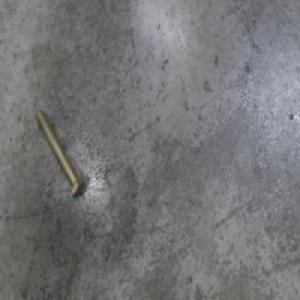Bolt: (33, 104, 86, 200)
